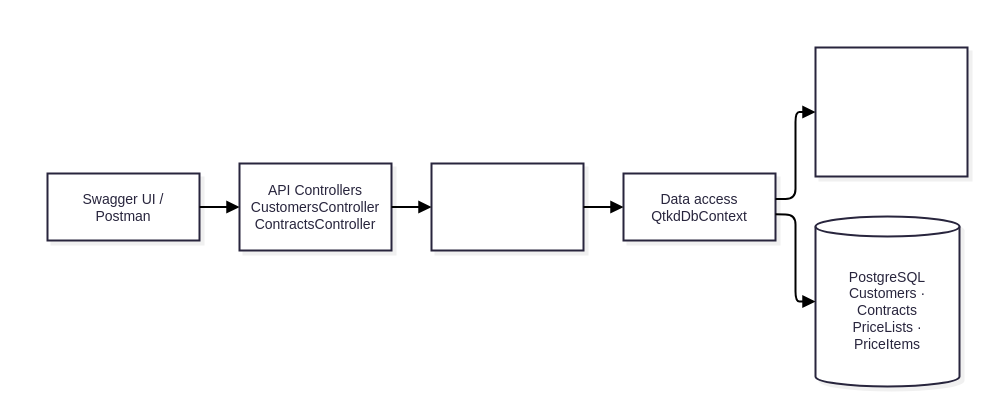
This 989x408 diagram has some shape labels left out. Each missing label, with the centre of its shape:
Entities Customer · Contract PriceList · PriceItem: [893,113]
Services CustomerService ContractService: [509,208]
